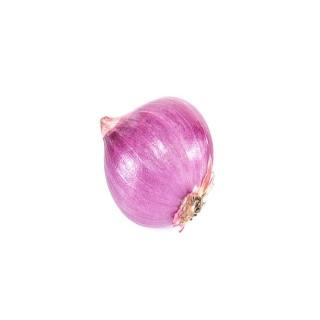Bawang Merah: (97, 93, 219, 235)
